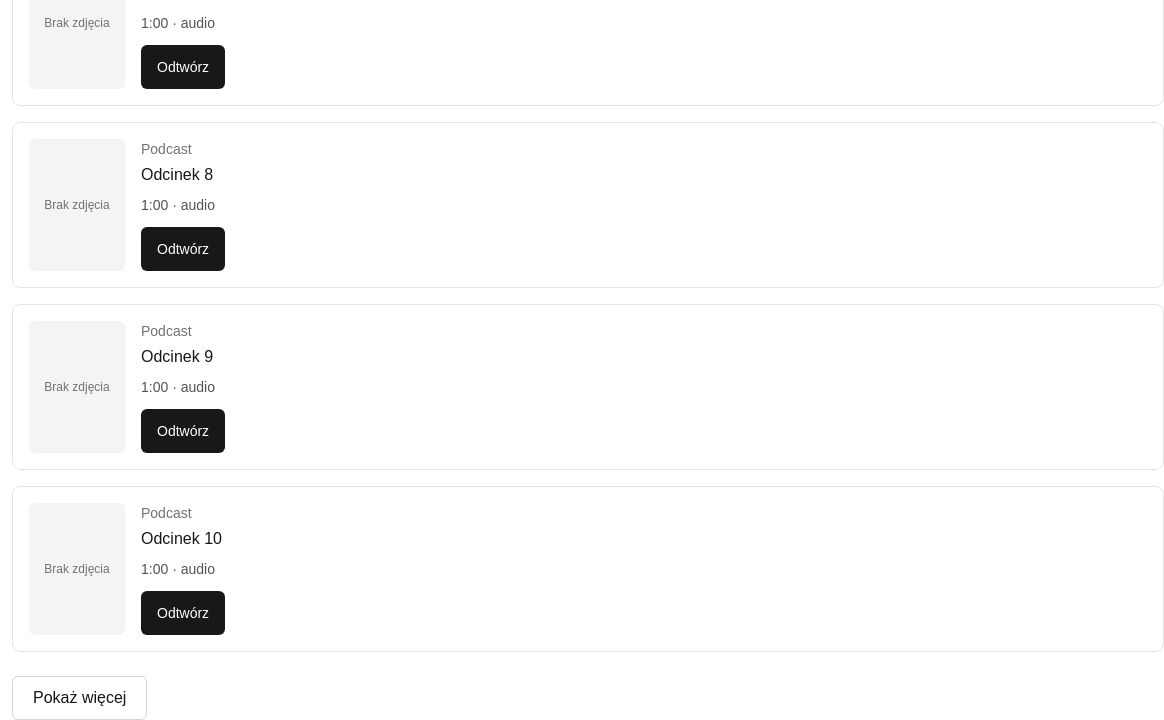
Test case: PodcastBrowser › shows a retryable message when loading another page fails
(page scrolled)
Click the button "Pokaż więcej": (80, 698) [12,676,147,719]
(page scrolled)
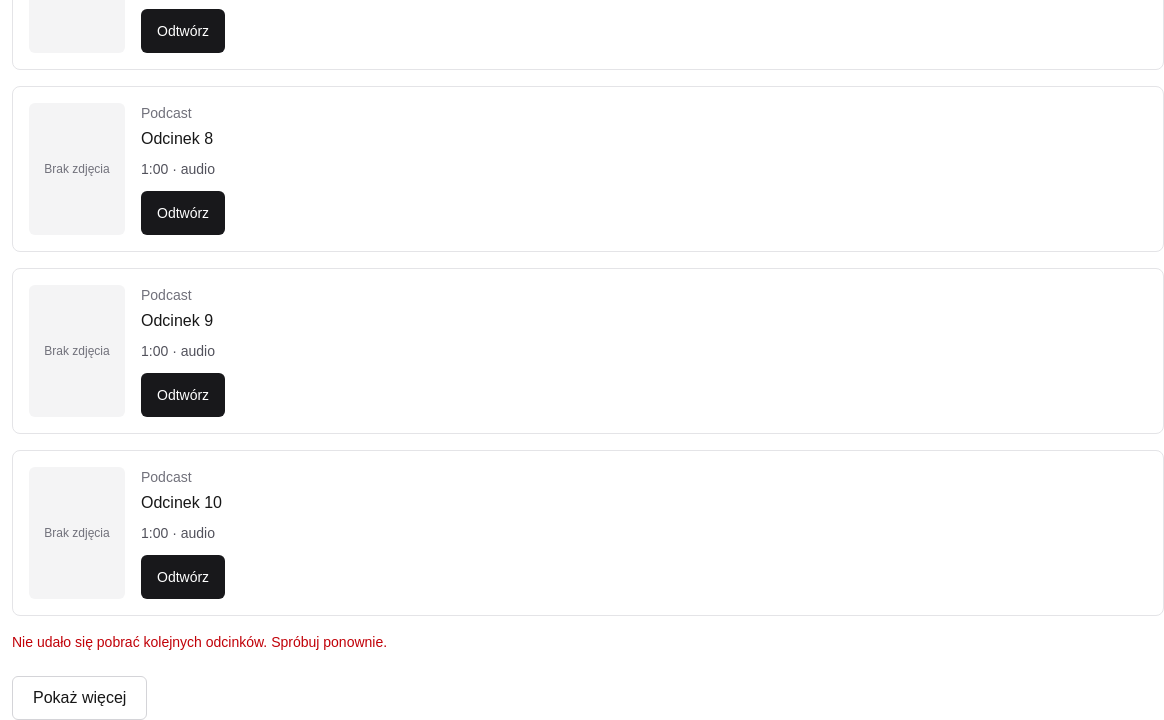
Now the text "Nie udało się pobrać kolejnych odcinków. Spróbuj ponownie." is shown, box [12,634,387,650]
